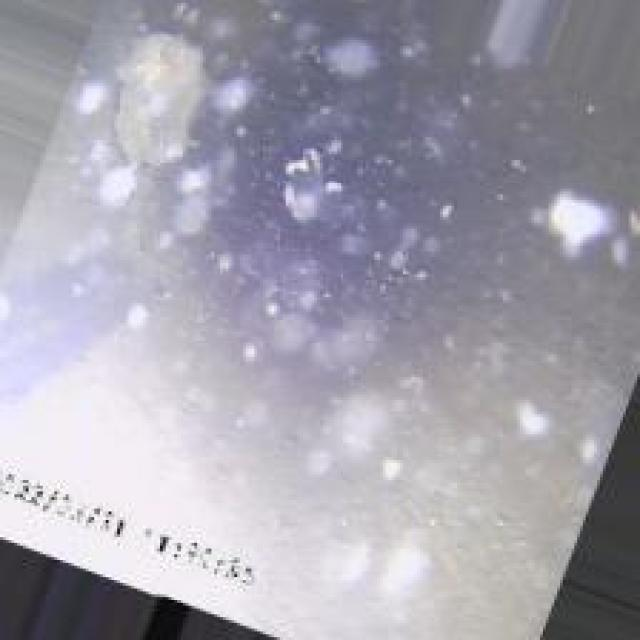stone: (111, 26, 206, 160)
